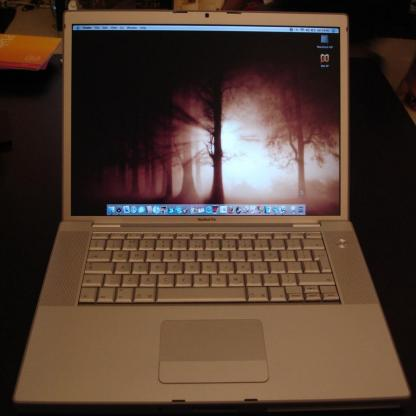board: (8, 10, 406, 409)
